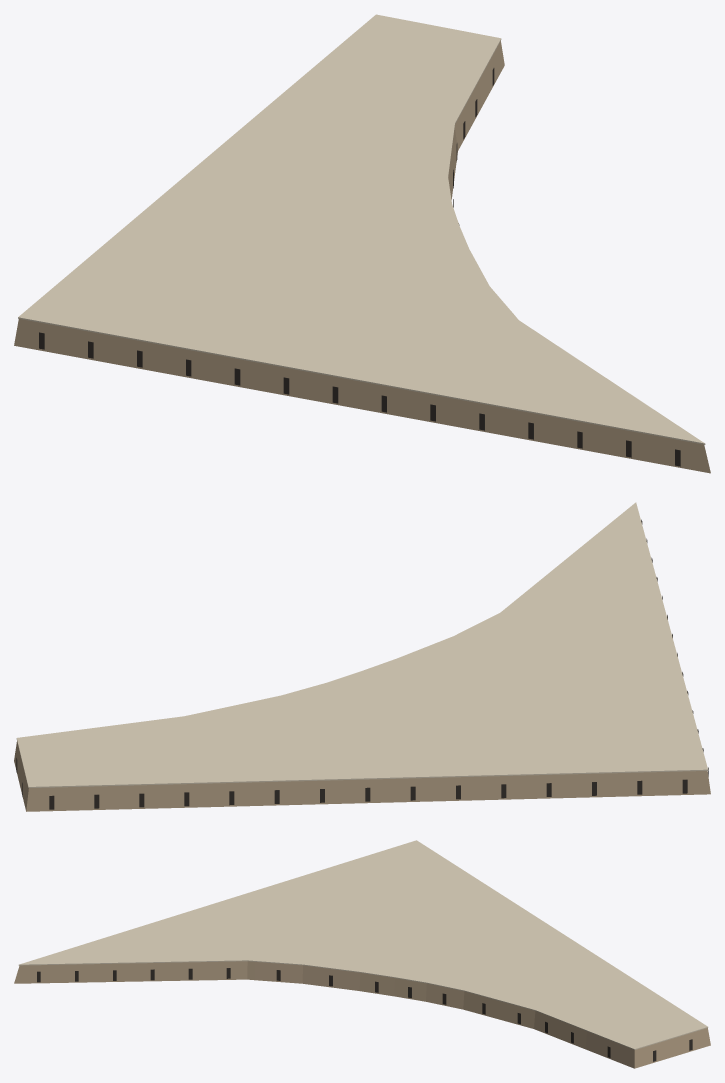
Rendered from festung-bastion-6.glb.
The picture shows the model from 3 angles, top to bottom: view 1: azimuth 30°, elevation 25°; view 2: azimuth 150°, elevation 25°; view 3: azimuth 270°, elevation 25°; orthographic projection. The views are drawn at different scales.
Parts seen in each view (by area): view 1: festung-bastion-6_lod0; view 2: festung-bastion-6_lod0; view 3: festung-bastion-6_lod0.
Part boxes in pixels (x1,y1,x2,y2): festung-bastion-6_lod0: [14, 14, 710, 473]; festung-bastion-6_lod0: [14, 502, 710, 811]; festung-bastion-6_lod0: [14, 840, 710, 1068].
Size of what is drawn, in the model's own units: 102 by 4.15 by 142.
